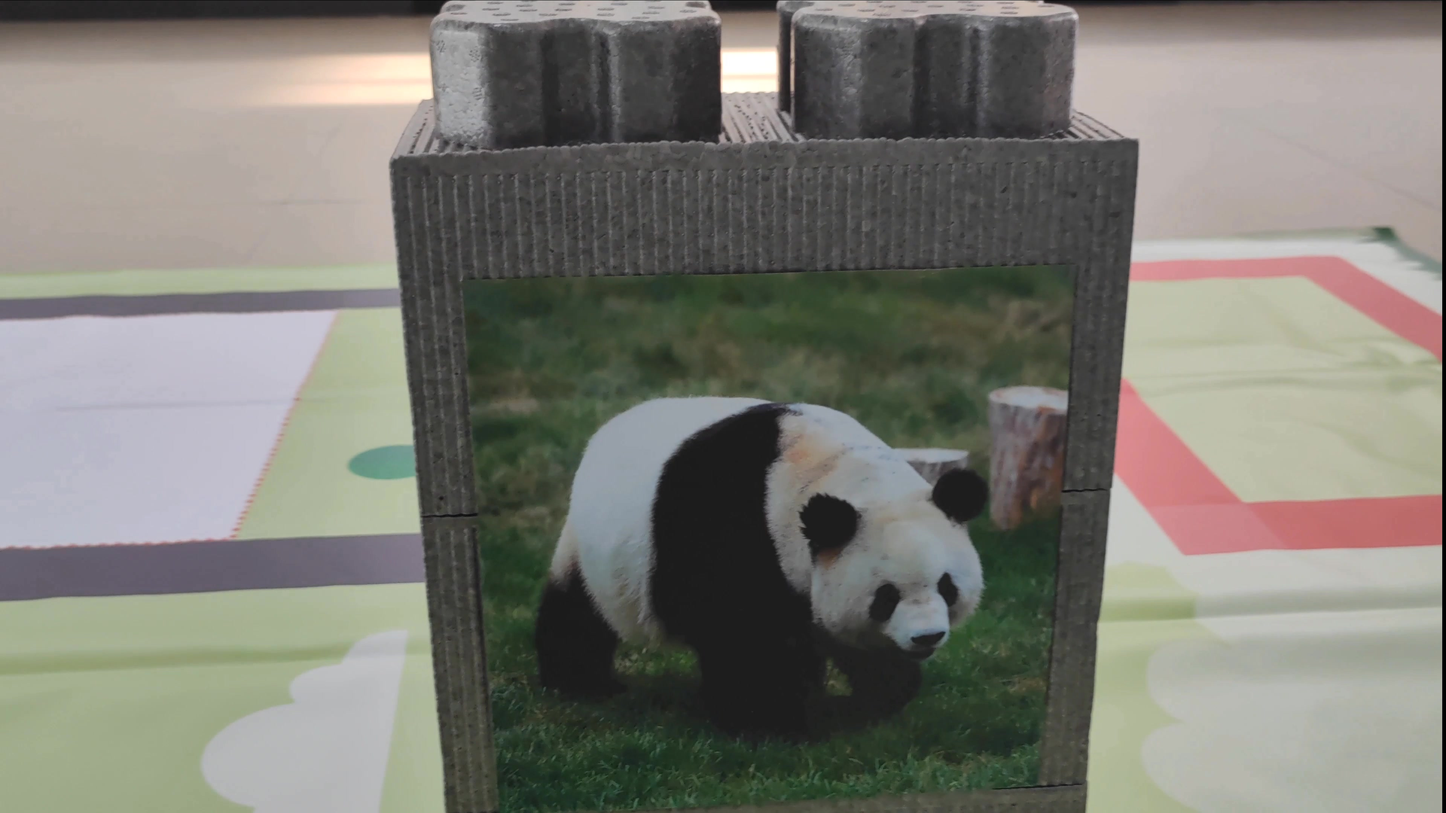panda: (502, 378, 1001, 734)
